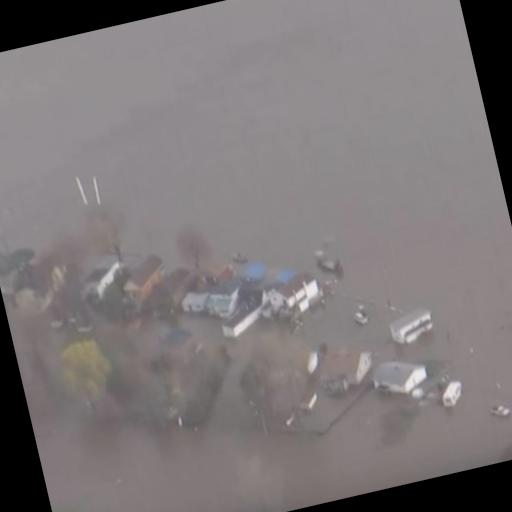house: (318, 338, 381, 400), (116, 252, 174, 314), (368, 354, 432, 406), (265, 267, 326, 321), (384, 302, 438, 348), (203, 274, 246, 323), (176, 280, 214, 316)
